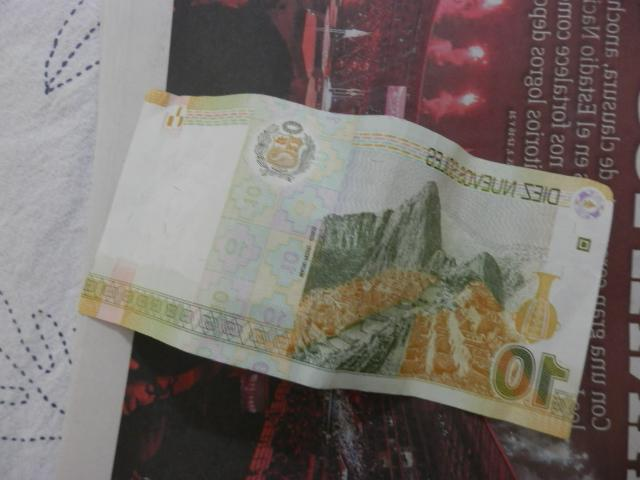B10: (78, 89, 615, 436)
